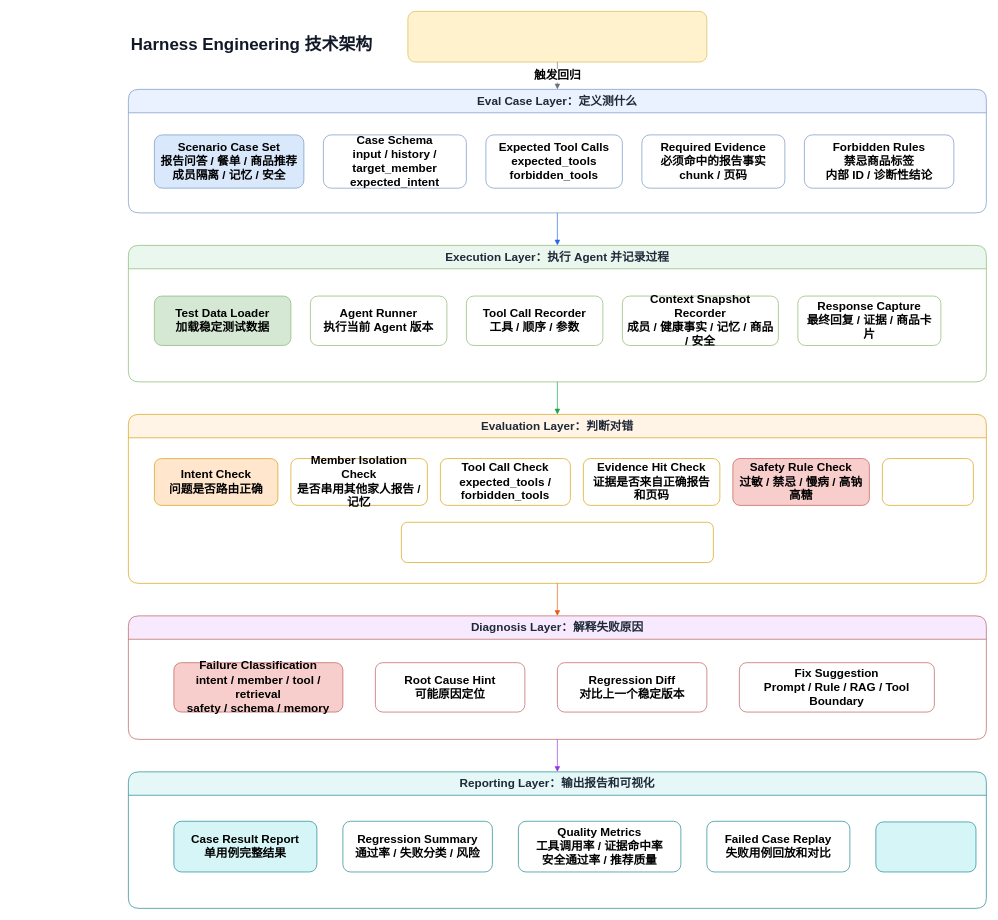
Some shapes in this 998 by 920 pixel diagram are drawn without their labels. The shapes that lost their labels are listed below. From the top down, each one's centre as x and y in pixels, then its label:
point (557, 36): 变更触发 Prompt / Tool / RAG / 推荐规则 / 商品标签 / 模型
point (927, 481): Response Schema Check
point (557, 542): Recommendation Quality Check 健康匹配 / 偏好 / 预算 / 类目 / 推荐证据
point (925, 846): Harness Dashboard 展示 / 研发调试
